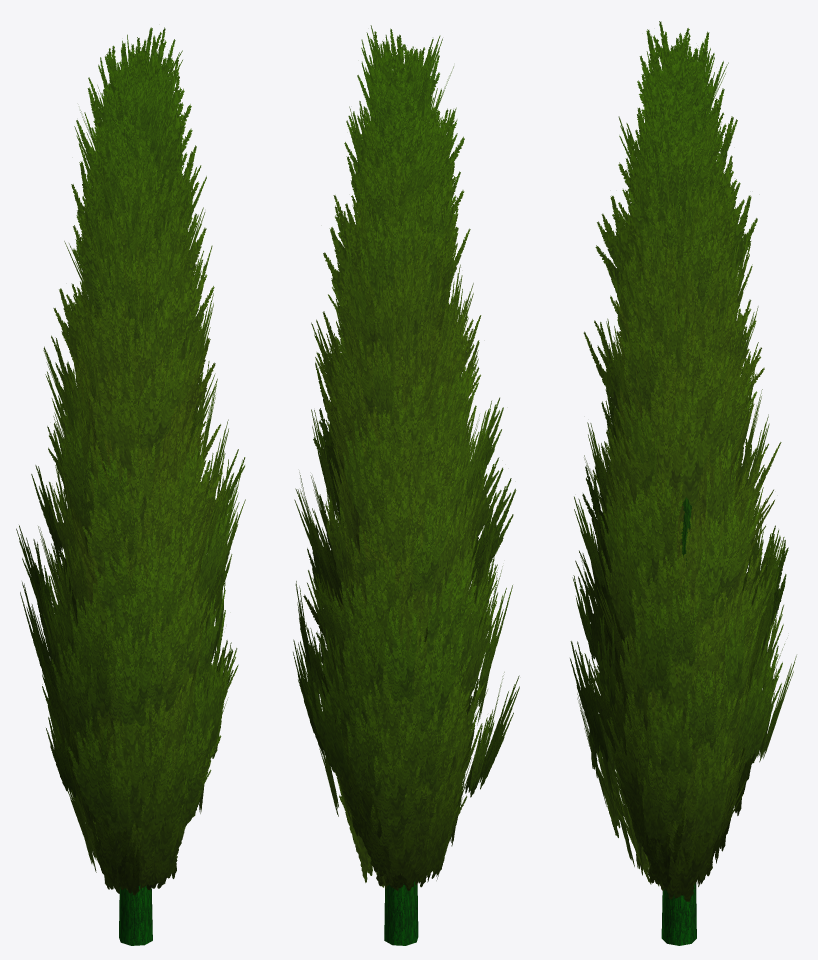
The model's file is kiparis.glb.
The picture shows the model from 3 angles, left to right: view 1: azimuth 30°, elevation 25°; view 2: azimuth 150°, elevation 25°; view 3: azimuth 270°, elevation 25°; orthographic projection.
Visible parts, largest first — view 1: kiparis_02_LOD0, kiparis_01_LOD0; view 2: kiparis_02_LOD0, kiparis_01_LOD0; view 3: kiparis_02_LOD0, kiparis_01_LOD0.
Part boxes in pixels (<box>): kiparis_02_LOD0: <box>16,27,245,945</box>; kiparis_01_LOD0: <box>25,34,245,936</box>; kiparis_02_LOD0: <box>293,25,516,945</box>; kiparis_01_LOD0: <box>298,28,519,932</box>; kiparis_02_LOD0: <box>570,28,796,945</box>; kiparis_01_LOD0: <box>575,21,784,919</box>.
Size of what is drawn, in the model's own units: 3.87 by 16.44 by 4.04.
Materials: 2 (2 with a texture image).
